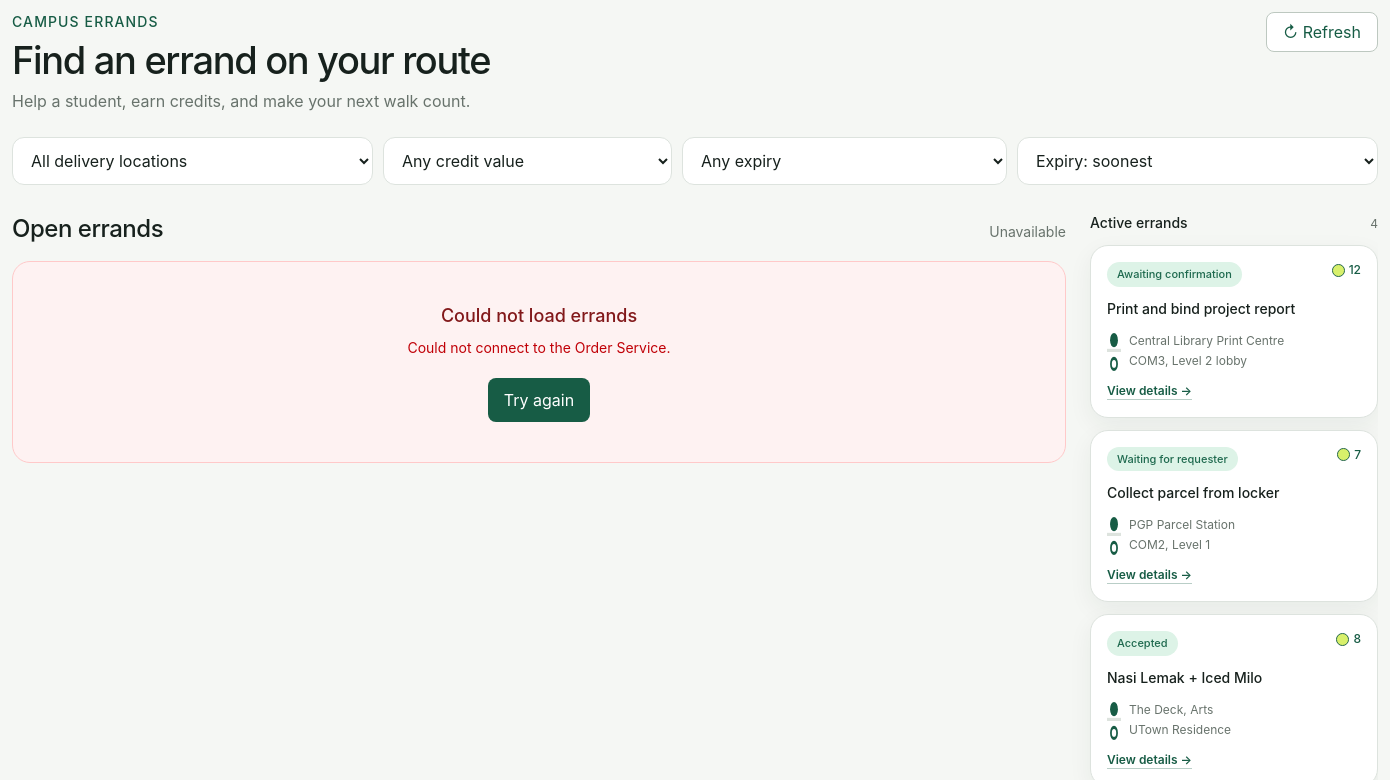
Scenario: DashboardPage › shows service errors and retries the request
expect the message shows "Could not connect to the Order Service.": met, box [407,339,670,356]
Click the button "Try again".
click(539, 400)  # box [488,378,590,422]
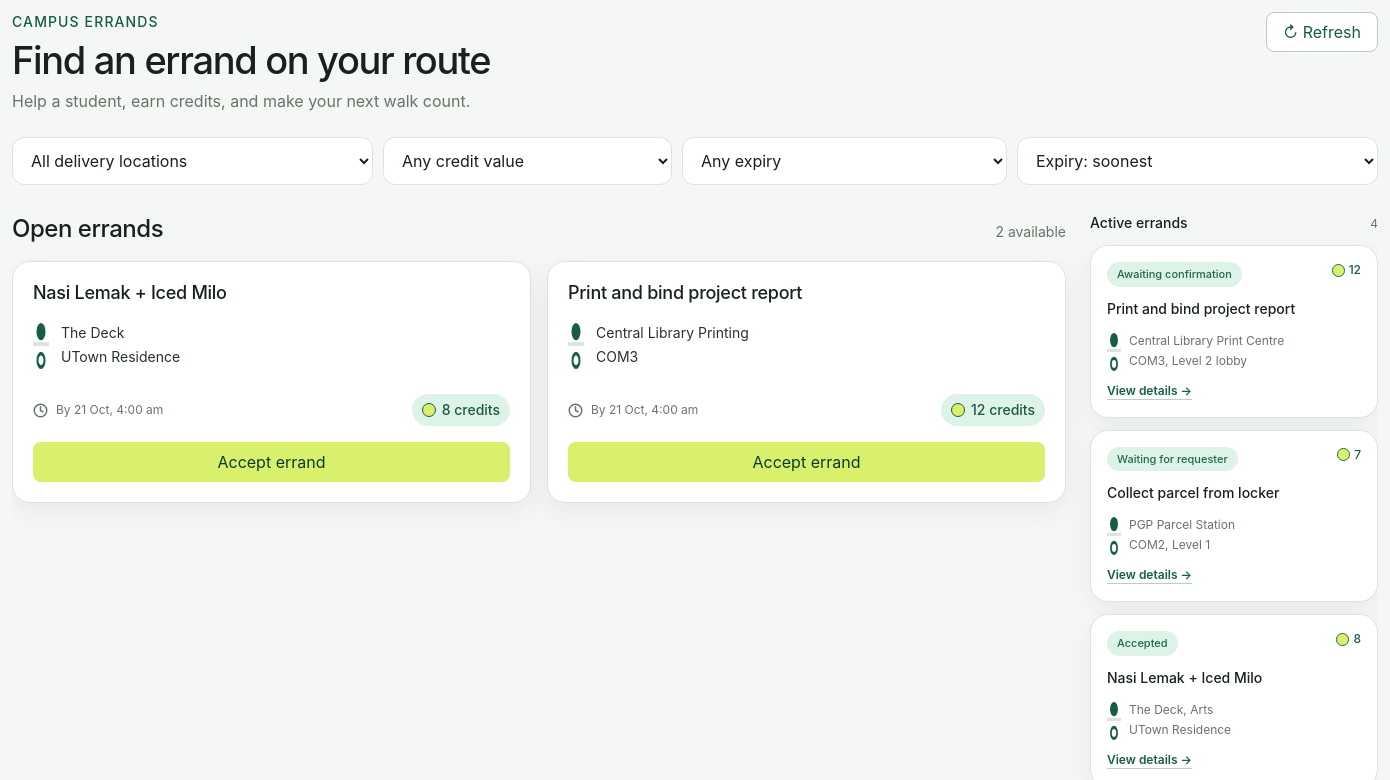
expect the heading "Nasi Lemak + Iced Milo" below "Open errands" is shown: met, box [33,282,227,303]
